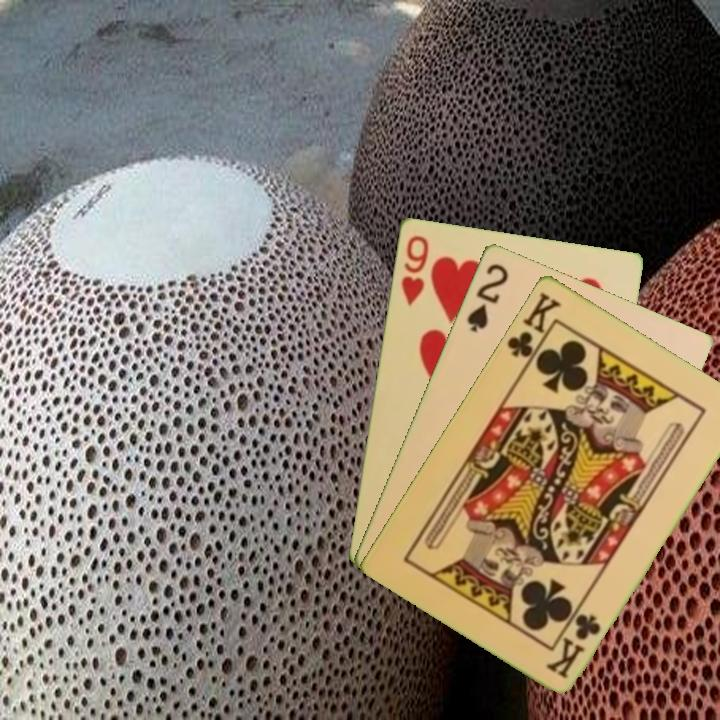2s: (463, 259, 511, 335)
9h: (397, 231, 431, 308)
Kc: (503, 288, 564, 370), (542, 609, 604, 681)
